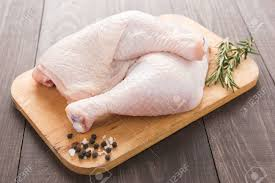Chicken: (96, 27, 187, 111)
